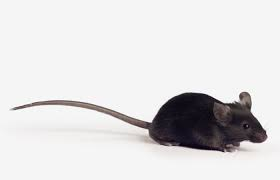mice: (9, 91, 268, 154)
